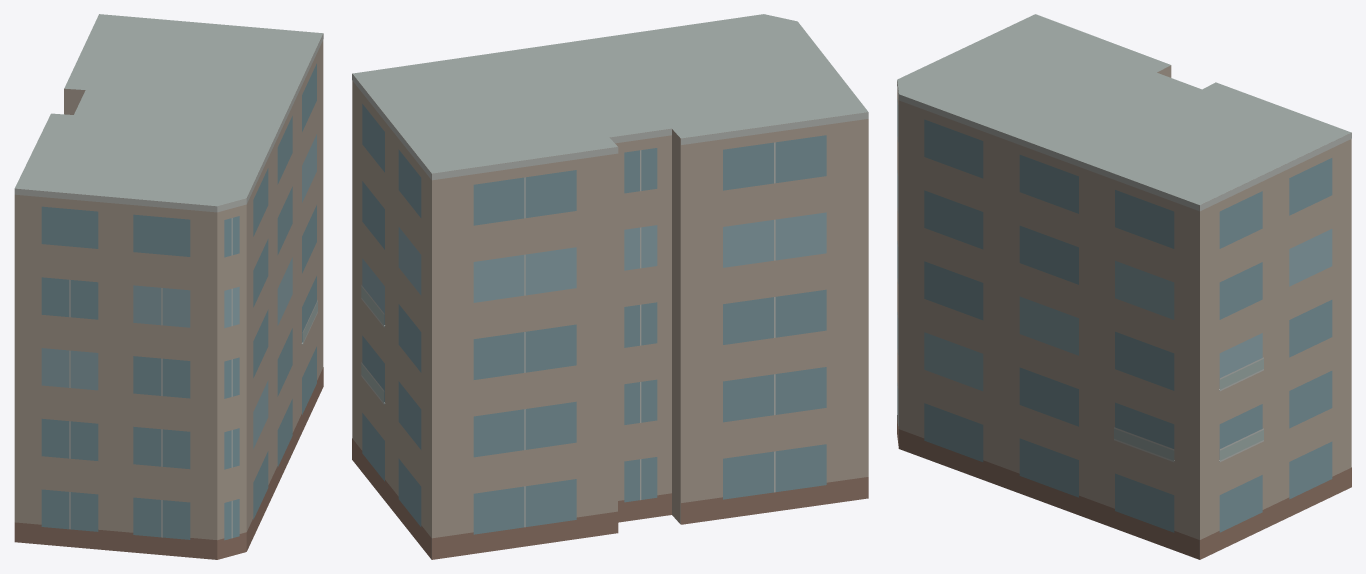
The model's file is survey-upis-32660784.glb.
3 renders of one model, left to right at view 1: azimuth 30°, elevation 25°; view 2: azimuth 150°, elevation 25°; view 3: azimuth 270°, elevation 25°, orthographic. The views are drawn at different scales.
Visible parts, largest first — view 1: survey-upis-32660784.tmp; view 2: survey-upis-32660784.tmp; view 3: survey-upis-32660784.tmp.
Boxes of the visible parts, bbox=[...] form: survey-upis-32660784.tmp: bbox=[14, 14, 323, 559]; survey-upis-32660784.tmp: bbox=[352, 14, 868, 559]; survey-upis-32660784.tmp: bbox=[897, 14, 1351, 559].
Bounding box in the file's own units: 16.26 × 14.05 × 16.33.
